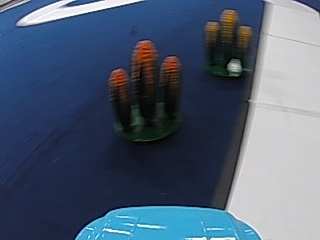corn: (107, 42, 185, 145), (202, 5, 252, 79)
